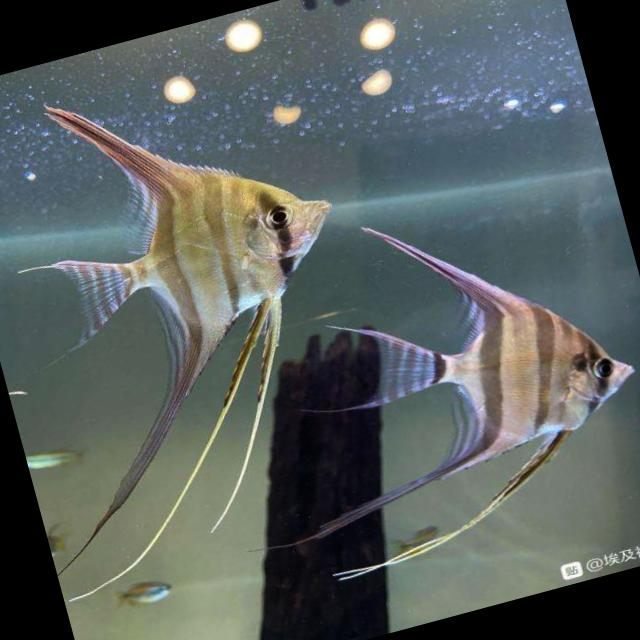AngelFish: (0, 29, 413, 570), (321, 166, 640, 581)
